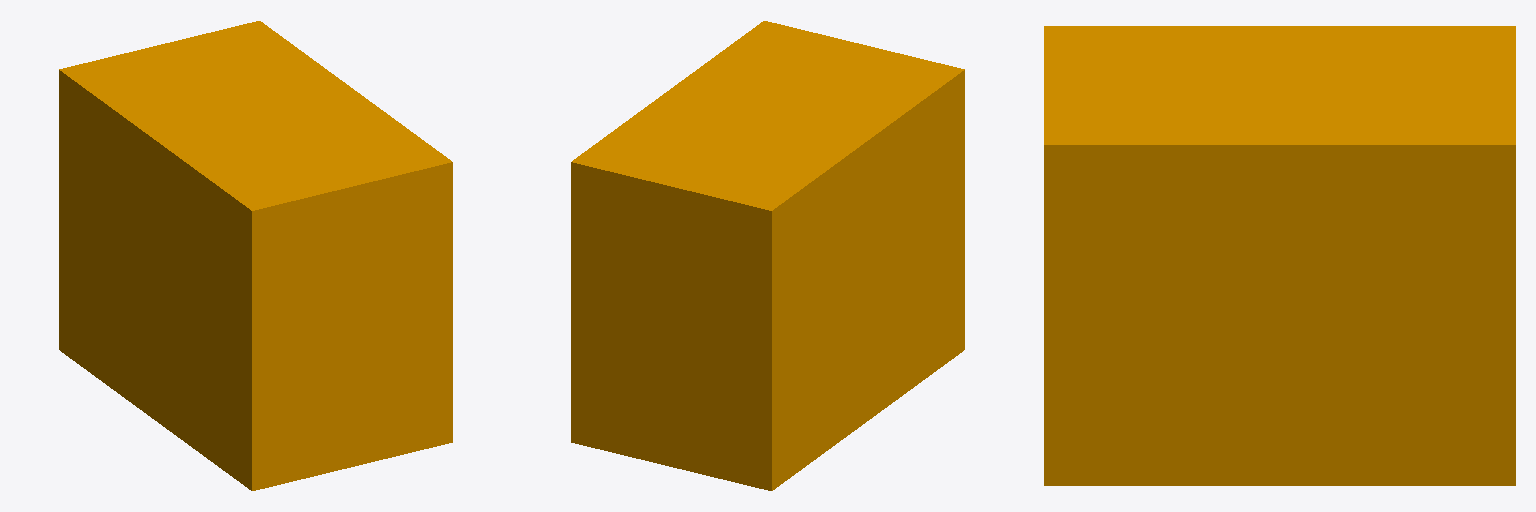
The robot description file, URDF, robot "centro_cnc":
<?xml version="1.0"?>
<!-- Componente "centro_cnc" de la biblioteca del contrato 2.0. Origen = centro geométrico. -->
<robot name="centro_cnc">
  <link name="centro_cnc">
    <visual><geometry><box size="0.3 0.5 0.4"/></geometry></visual>
    <collision><geometry><box size="0.3 0.5 0.4"/></geometry></collision>
  </link>
</robot>

--- Render facts (derived) ---
The picture shows the robot from 3 angles, left to right: view 1: azimuth 30°, elevation 25°; view 2: azimuth 150°, elevation 25°; view 3: azimuth 270°, elevation 25°; orthographic projection.
Model centro_cnc with 1 links and 0 joints (none), rooted at centro_cnc, posed every joint at zero.
Visible links, largest first — view 1: centro_cnc; view 2: centro_cnc; view 3: centro_cnc.
Link boxes in pixels (x1,y1,x2,y2): centro_cnc: [59, 21, 452, 490]; centro_cnc: [571, 21, 964, 490]; centro_cnc: [1044, 26, 1515, 485].
Bounding box of the posed robot: 0.3 × 0.5 × 0.4 m (x, y, z).
Geometry: primitives only (box / cylinder / sphere), no mesh files.
